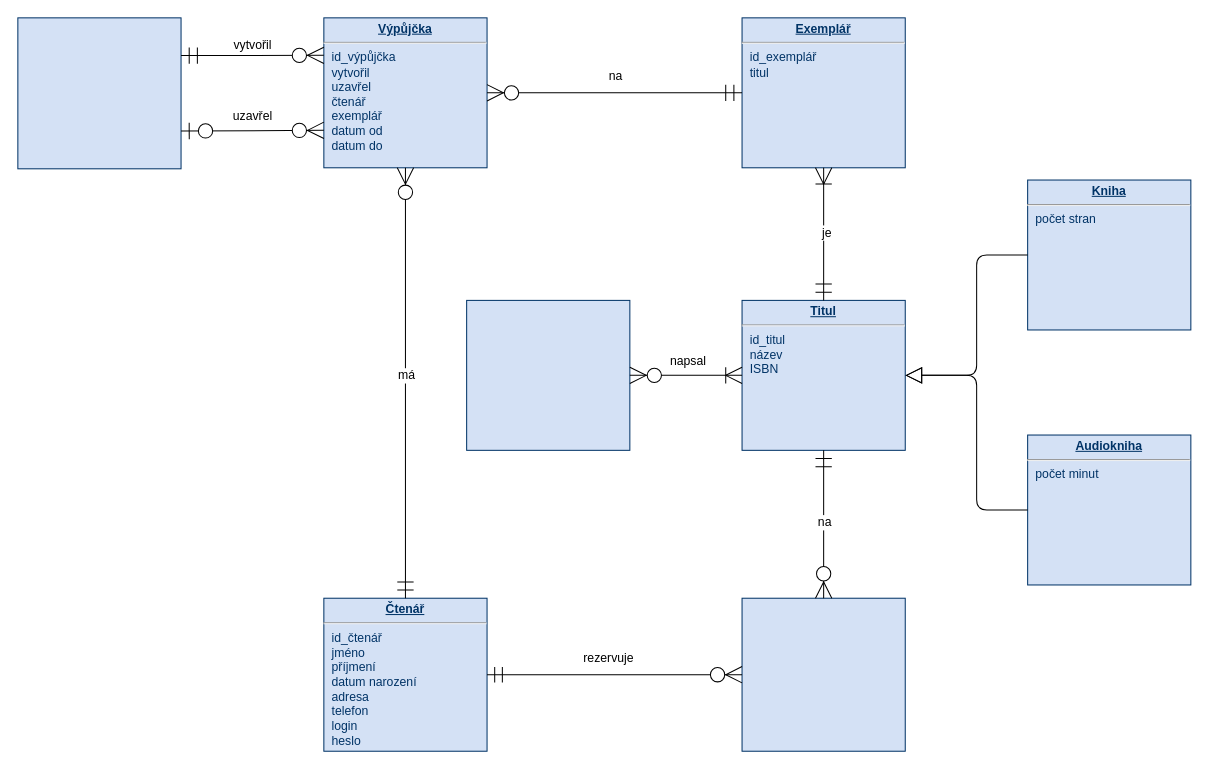
Image size: 1209x769. Some labels were removed from this diagram. The shapes that lost their labels are listed below. From the top down, each one's centre as x and y in pixels, then its label:
the point at 99,93: Zaměstnanec id_zaměstnanec jméno příjmení datum narození funkce login heslo role
the point at 548,374: Autor id_autor jméno příjmení datum narození datum úmrtí
the point at 823,674: Rezervace id_rezervace čtenář titul datum od
